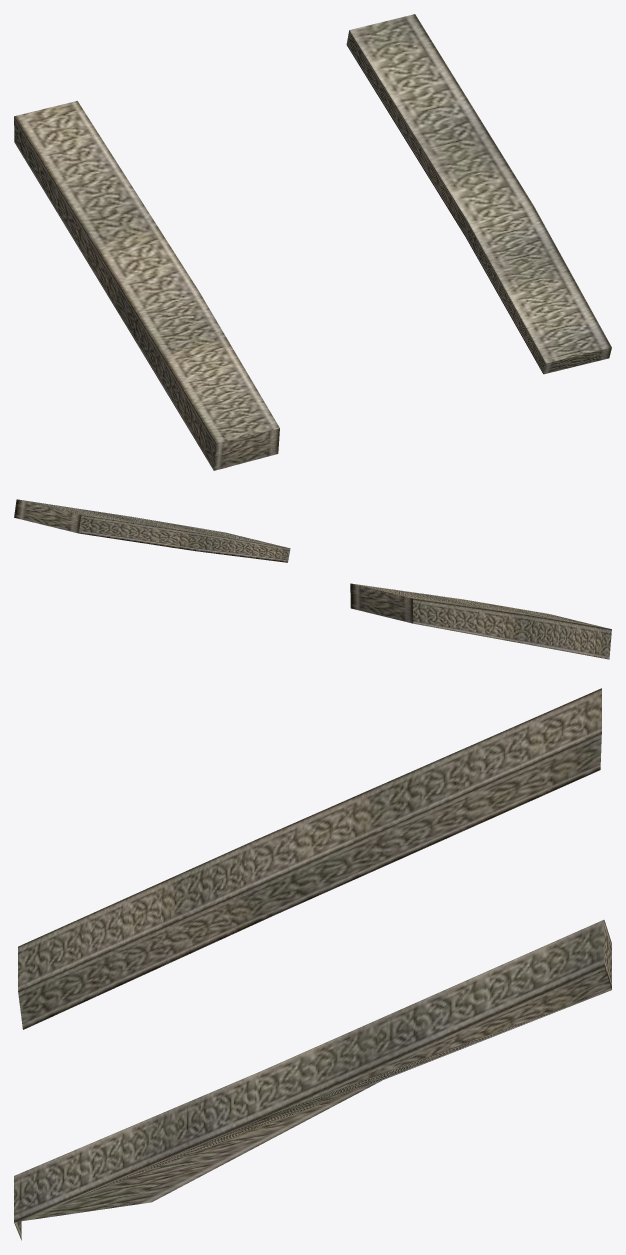
3 renders of one model, top to bottom at view 1: azimuth 30°, elevation 25°; view 2: azimuth 150°, elevation 25°; view 3: azimuth 270°, elevation 25°, orthographic. The views are drawn at different scales.
Visible parts, largest first — view 1: Box21325; view 2: Box21325; view 3: Box21325.
Part boxes in pixels (left/top/right/bottom): Box21325: left=14, top=14, right=611, bottom=470; Box21325: left=14, top=499, right=611, bottom=659; Box21325: left=14, top=688, right=611, bottom=1240.
Size of the model in its own units: 118 by 59.25 by 105.
